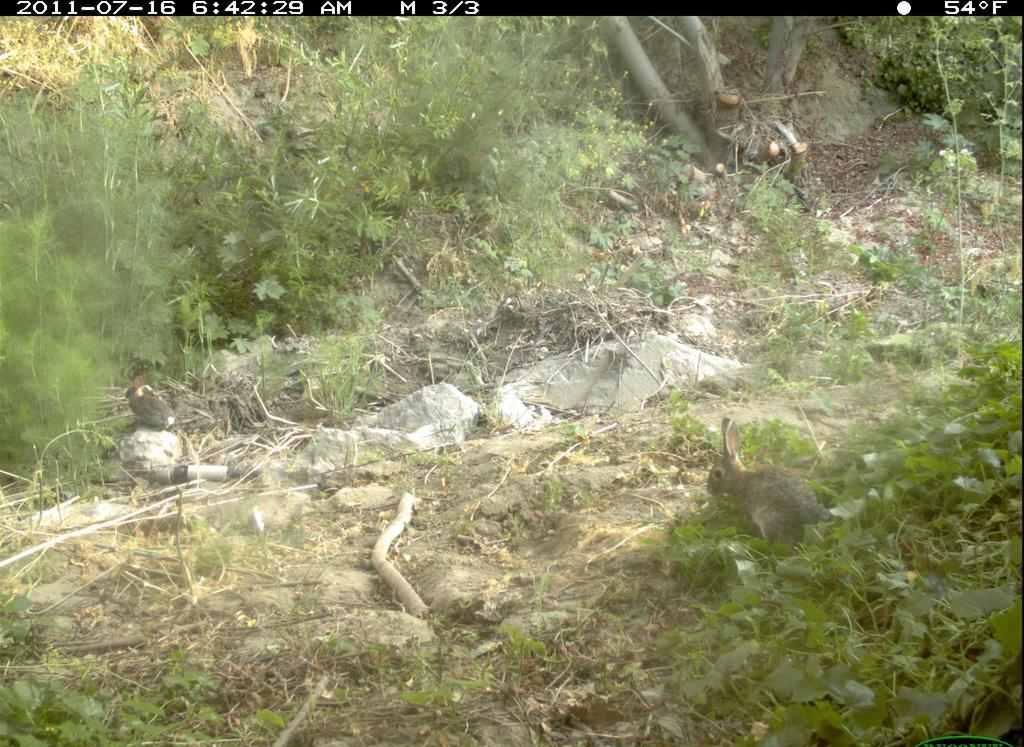rabbit: (693, 415, 836, 555)
